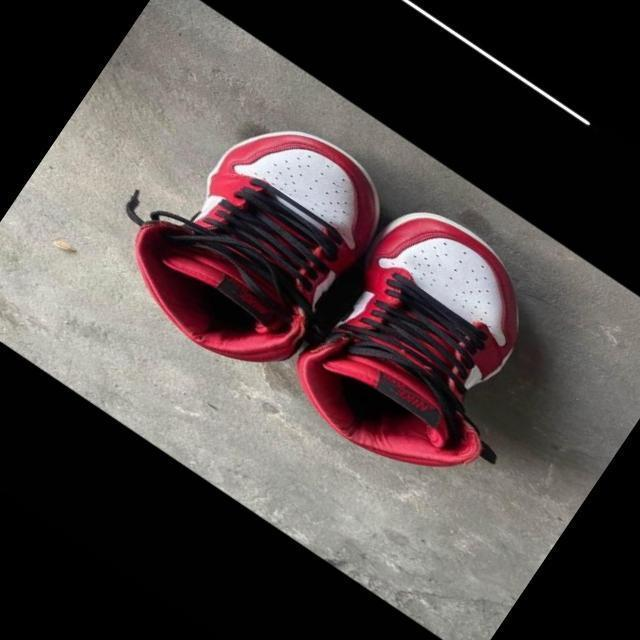nike fake jordan 1: (270, 187, 582, 508), (105, 78, 414, 396)
